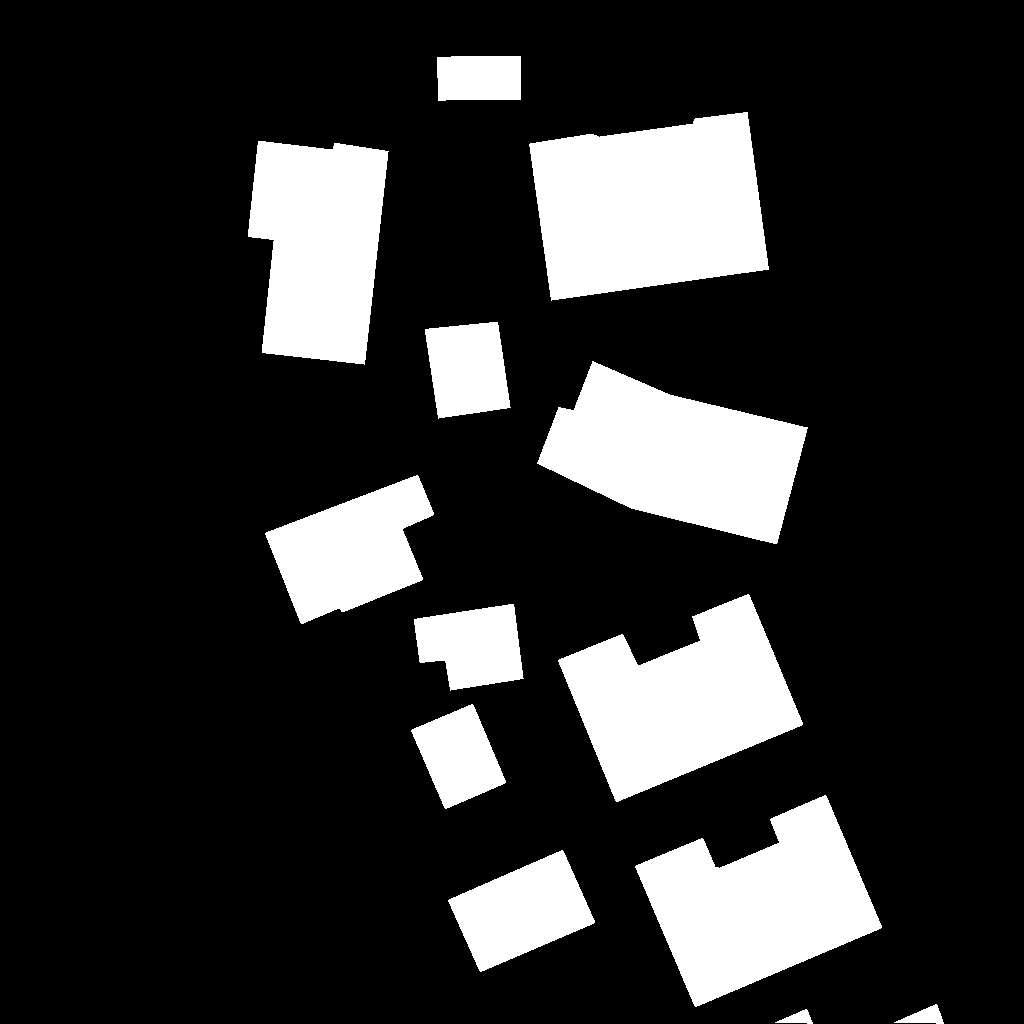building: (635, 795, 883, 1008), (558, 594, 804, 803), (537, 361, 809, 545), (529, 112, 770, 301), (248, 141, 389, 365), (265, 475, 435, 625), (448, 850, 596, 973), (411, 704, 507, 810), (414, 604, 524, 691), (425, 322, 511, 419), (437, 56, 522, 101), (774, 1004, 945, 1024)
